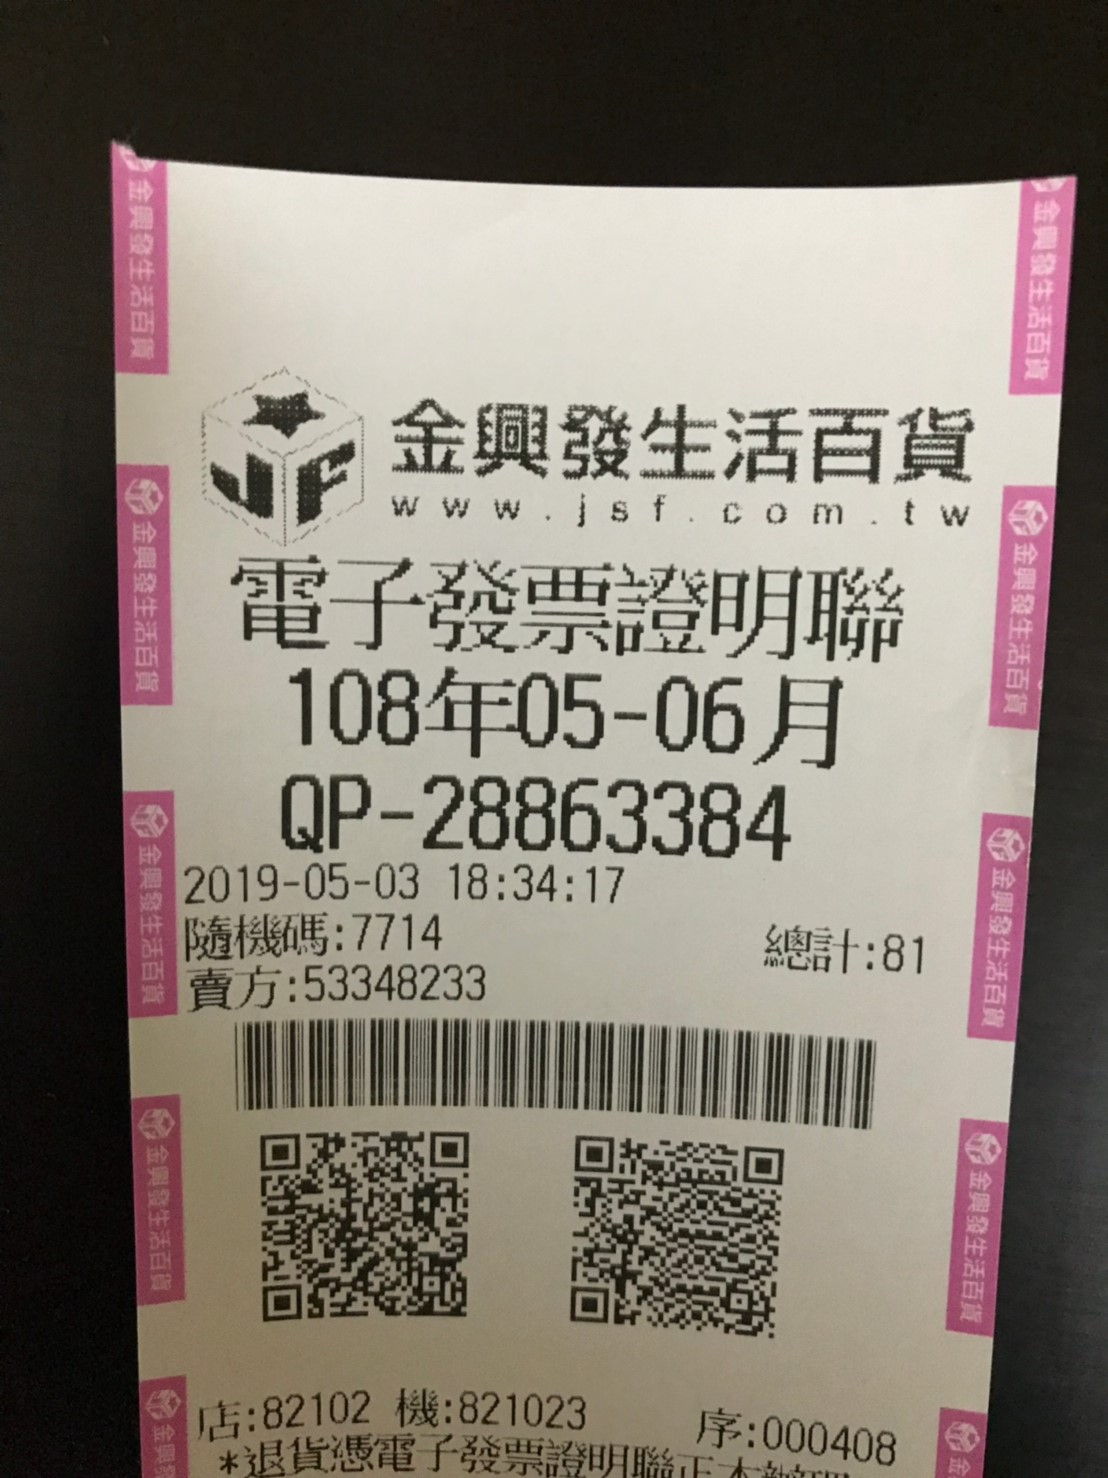Date_New: (283, 661, 847, 770)
Number_New: (417, 770, 800, 871)
